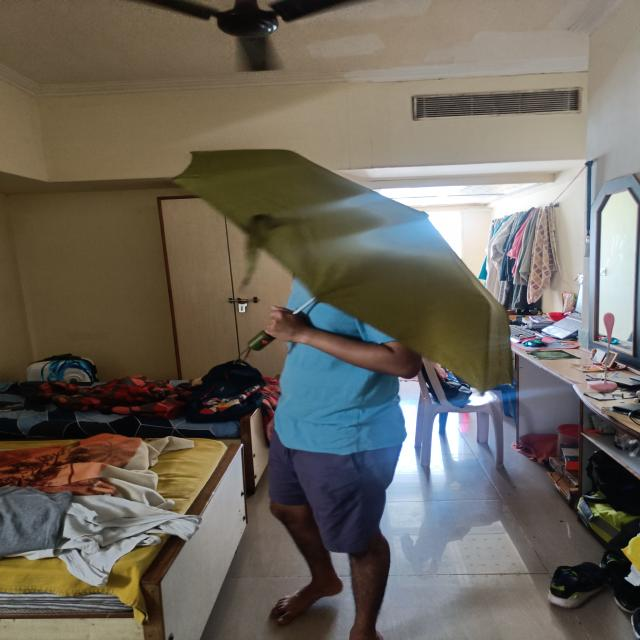umbrella: (173, 149, 517, 390)
